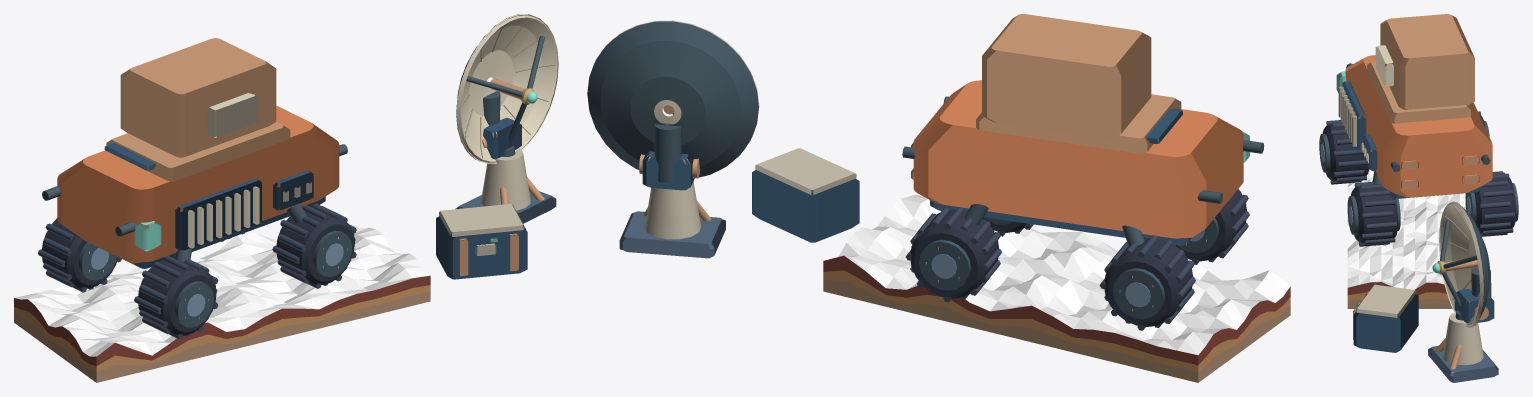
The model's file is vehiculo.obj.
3 renders of one model, left to right at view 1: azimuth 30°, elevation 25°; view 2: azimuth 150°, elevation 25°; view 3: azimuth 270°, elevation 25°, orthographic. The views are drawn at different scales.
Parts seen in each view (by area): view 1: vehiculo; view 2: vehiculo; view 3: vehiculo.
Boxes of the visible parts, <box> form: vehiculo: <box>14,14,558,382</box>; vehiculo: <box>587,14,1290,382</box>; vehiculo: <box>1319,14,1518,382</box>.
Bounding box in the file's own units: 1.56 × 0.6701 × 0.6067.
